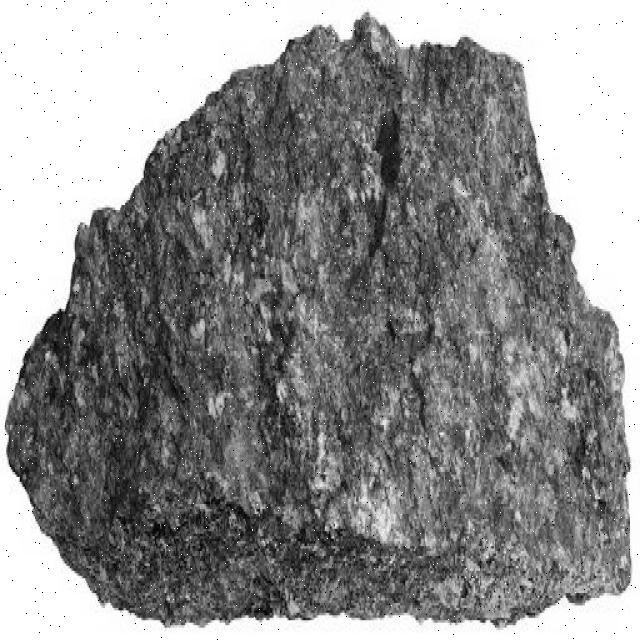Igneous: (1, 15, 636, 628)
